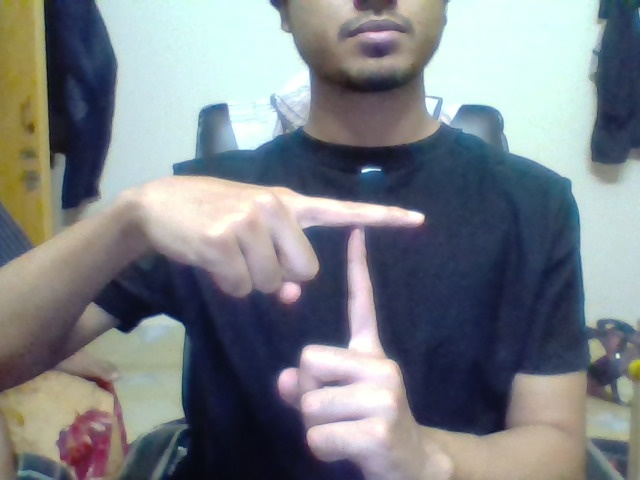T: (324, 187, 439, 330)
